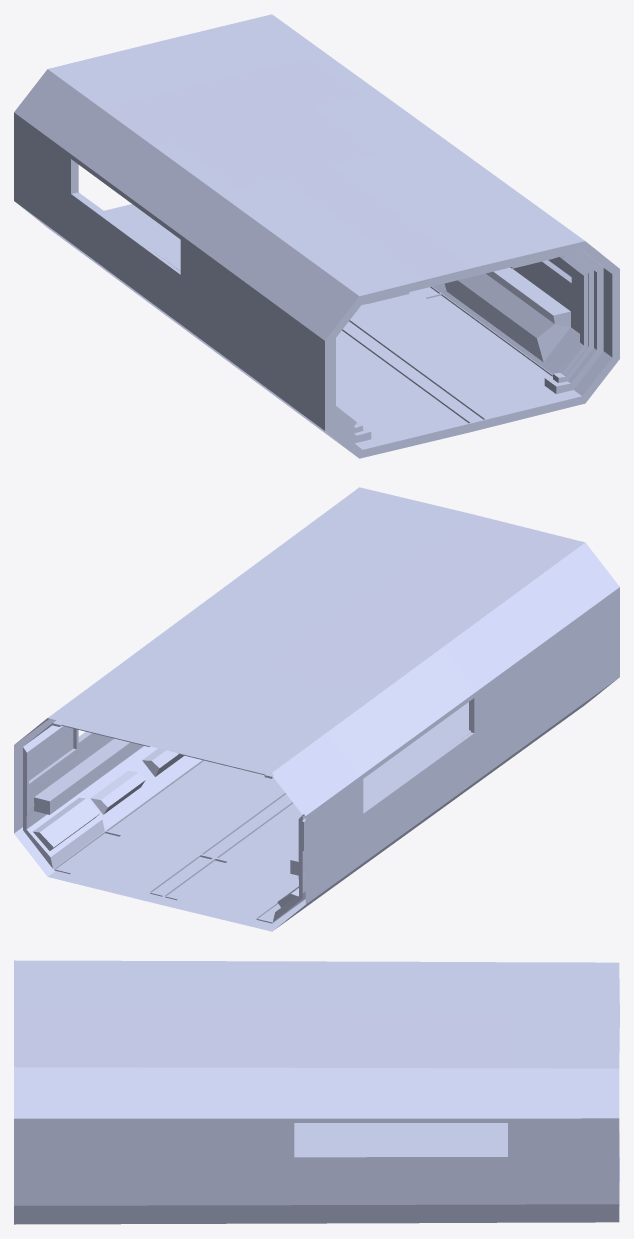
The model's file is Space_tunnel.fbx.
The picture shows the model from 3 angles, top to bottom: view 1: azimuth 30°, elevation 25°; view 2: azimuth 150°, elevation 25°; view 3: azimuth 270°, elevation 25°; orthographic projection. The views are drawn at different scales.
Visible parts, largest first — view 1: Cube; view 2: Cube; view 3: Cube.
Part boxes in pixels (x1,y1,x2,y2): Cube: [14, 14, 619, 458]; Cube: [14, 487, 619, 931]; Cube: [14, 960, 619, 1224].
Bounding box in the file's own units: 796 × 422 × 1463.
